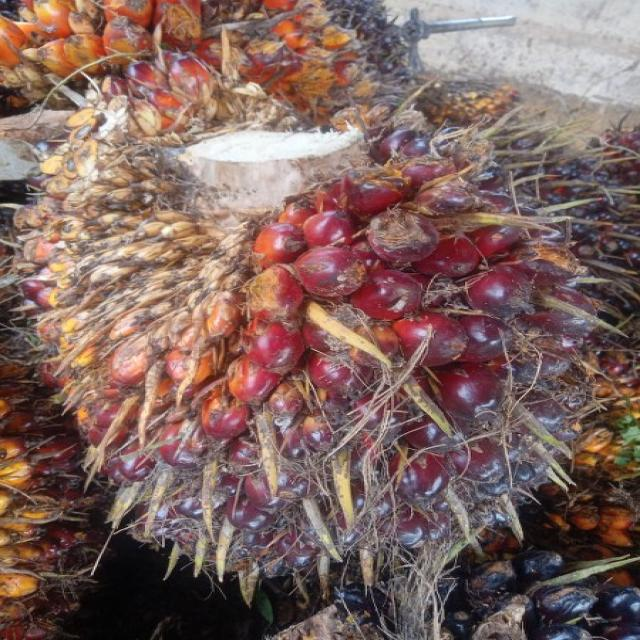fraksi 1: (12, 76, 614, 585)
